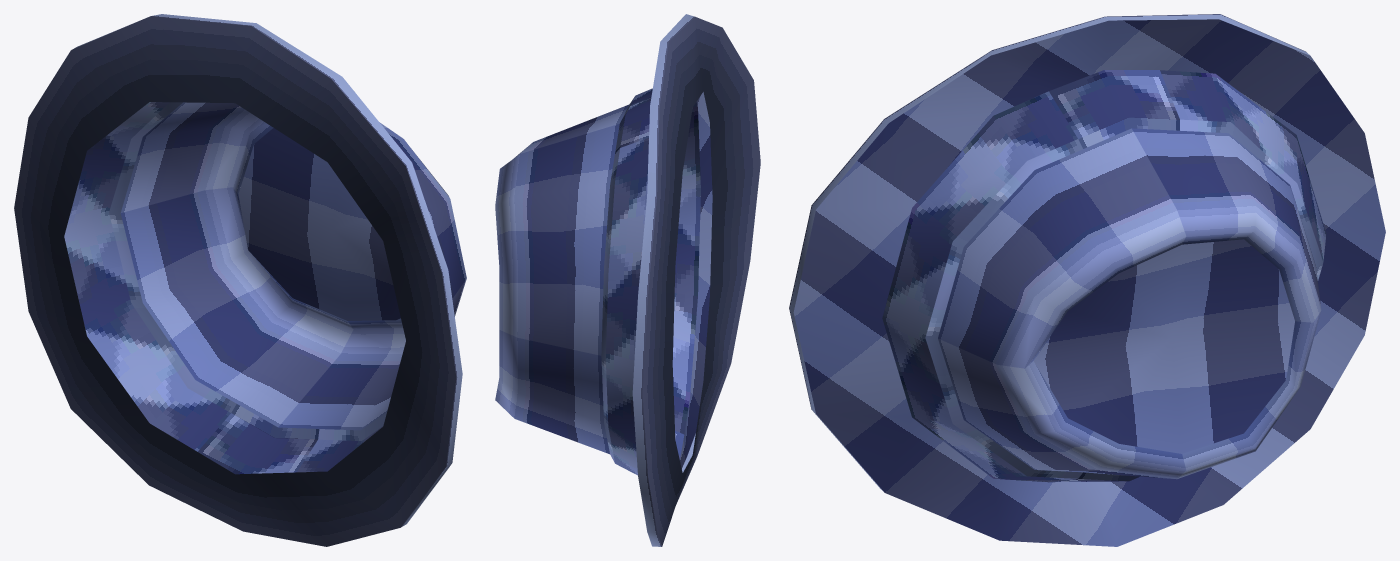
File: cap_softfelt.dae
3 renders of one model, left to right at view 1: azimuth 30°, elevation 25°; view 2: azimuth 150°, elevation 25°; view 3: azimuth 270°, elevation 25°, orthographic. The views are drawn at different scales.
Parts seen in each view (by area): view 1: cap_softfelt; view 2: cap_softfelt; view 3: cap_softfelt.
Part boxes in pixels (bbox=[...]): cap_softfelt: bbox=[14, 14, 466, 546]; cap_softfelt: bbox=[495, 14, 760, 546]; cap_softfelt: bbox=[789, 14, 1385, 546].
Bounding box in the file's own units: 16.72 × 28.89 × 29.58.
2 materials, 2 textured.
